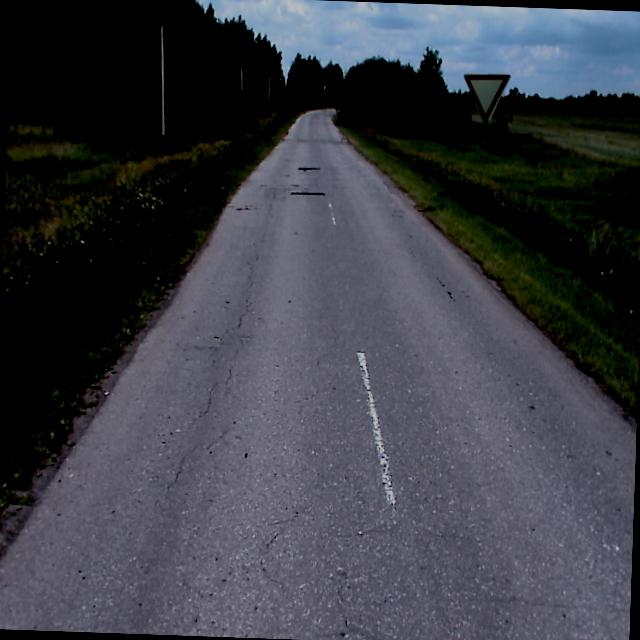road: (0, 110, 636, 640)
